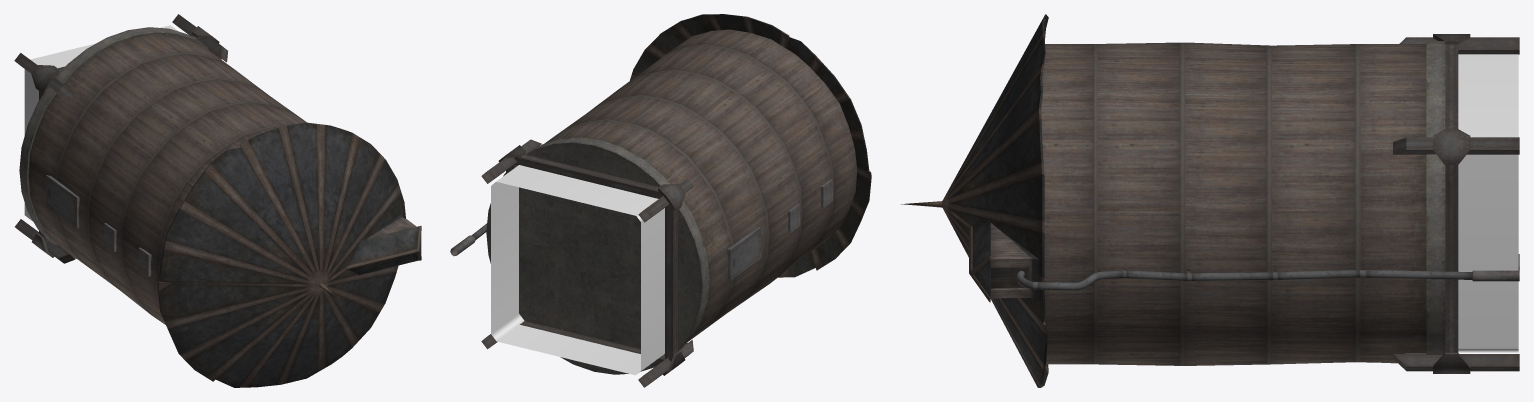
File: hd_envAM_013_SiloTower.glb
3 renders of one model, left to right at view 1: azimuth 30°, elevation 25°; view 2: azimuth 150°, elevation 25°; view 3: azimuth 270°, elevation 25°, orthographic. The views are drawn at different scales.
Parts seen in each view (by area): view 1: set_0_group_1, set_0_group_0; view 2: set_0_group_1, set_0_group_0; view 3: set_0_group_1, set_0_group_0.
Part boxes in pixels (x1=…): set_0_group_1: x1=14, y1=14, x2=421, y2=387; set_0_group_0: x1=24, y1=25, x2=178, y2=221; set_0_group_1: x1=450, y1=14, x2=871, y2=387; set_0_group_0: x1=491, y1=165, x2=664, y2=375; set_0_group_1: x1=901, y1=14, x2=1519, y2=387; set_0_group_0: x1=1458, y1=54, x2=1518, y2=352.
Size of the model in its own units: 7.86 by 7.61 by 12.66.
2 materials, 1 textured.
